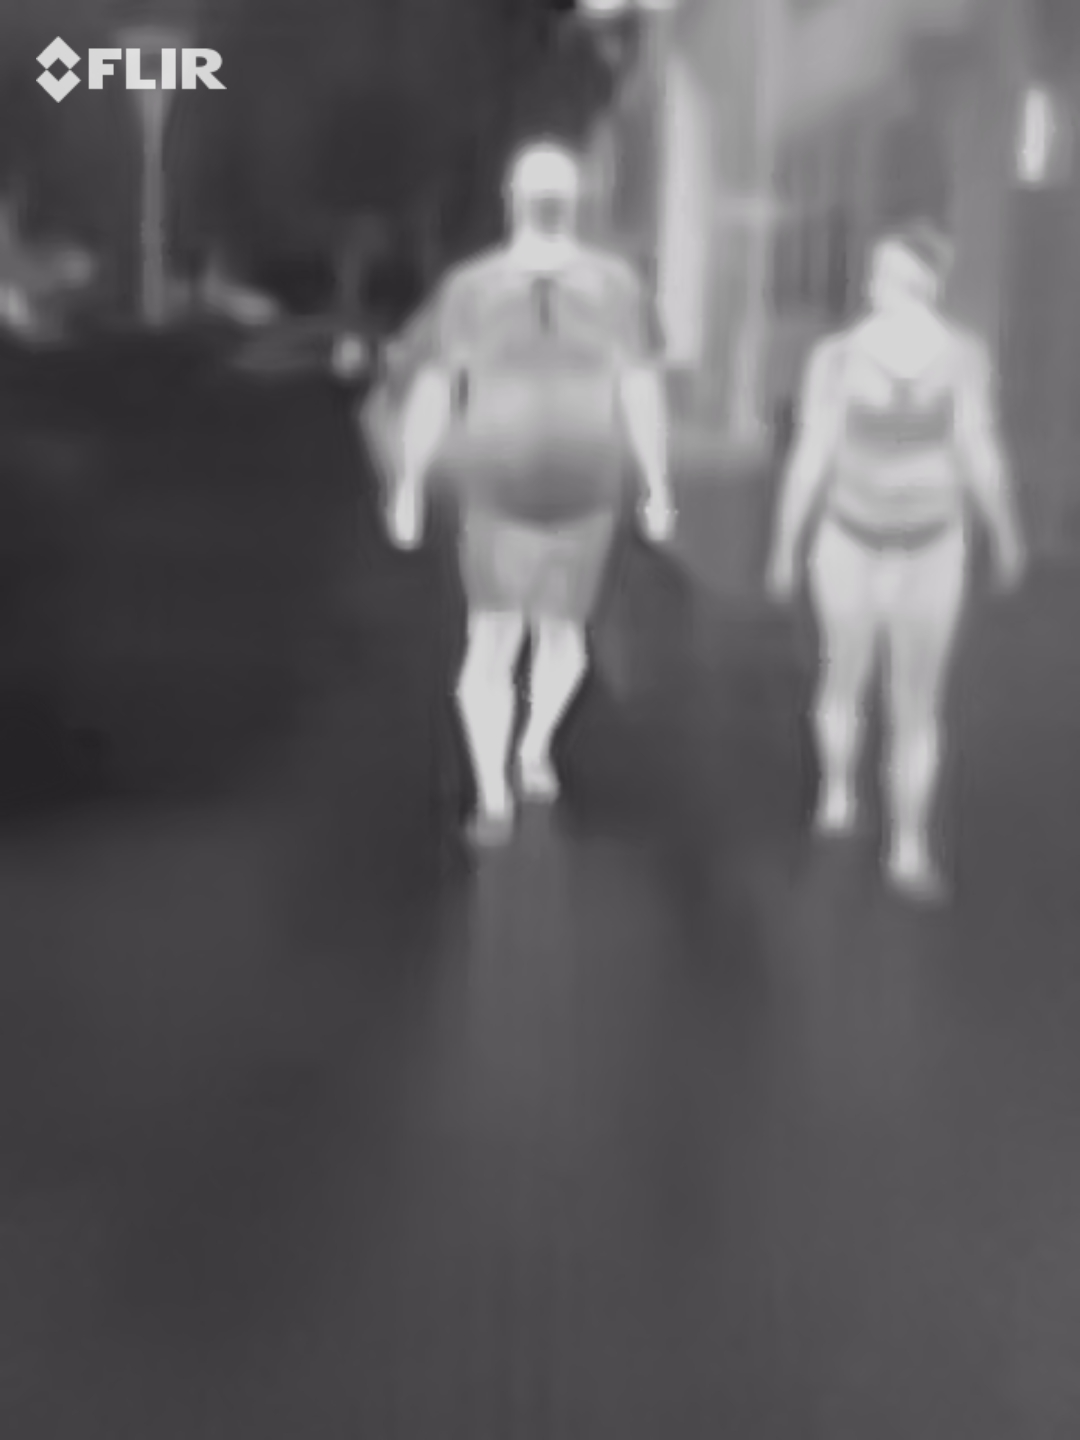head: (494, 137, 589, 256), (862, 219, 956, 330)
